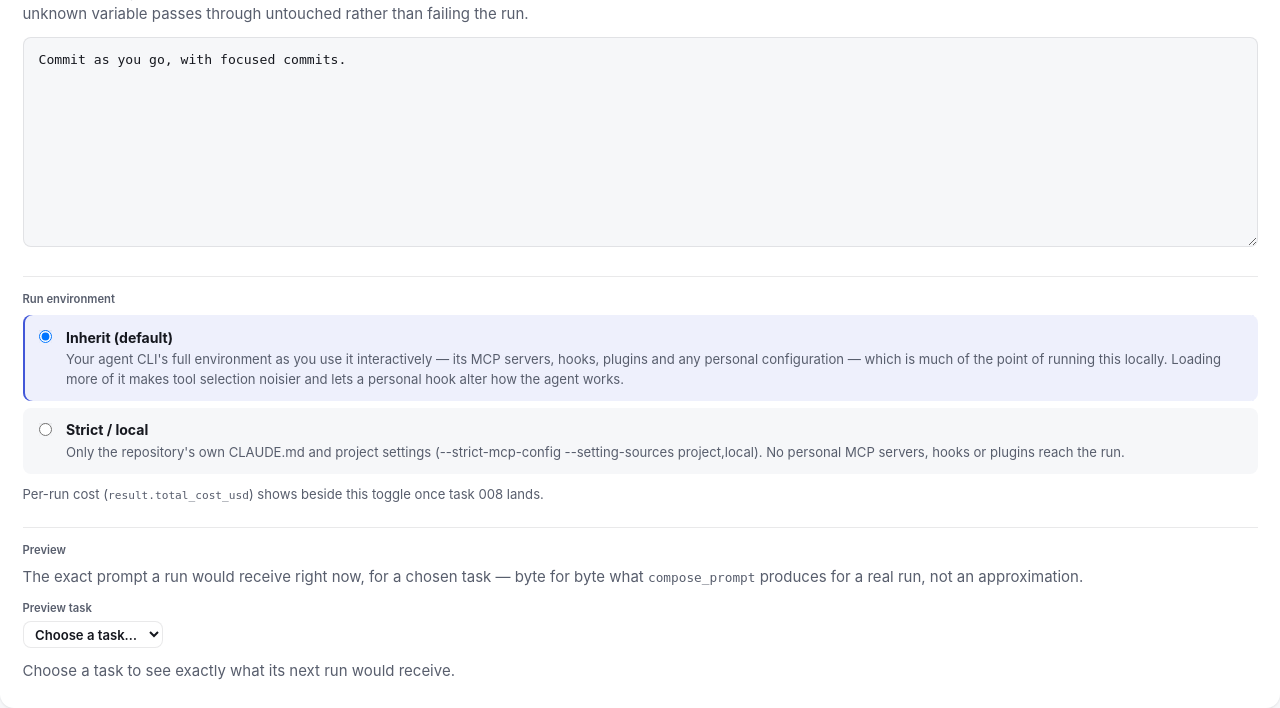
Test: InstructionsSection › re-composes the preview after a base-instructions save, for whatever task is already selected
(page scrolled)
Select "Wire the board" in the dropdown labelled "Preview task" at (92, 635), box [22,621,162,648]
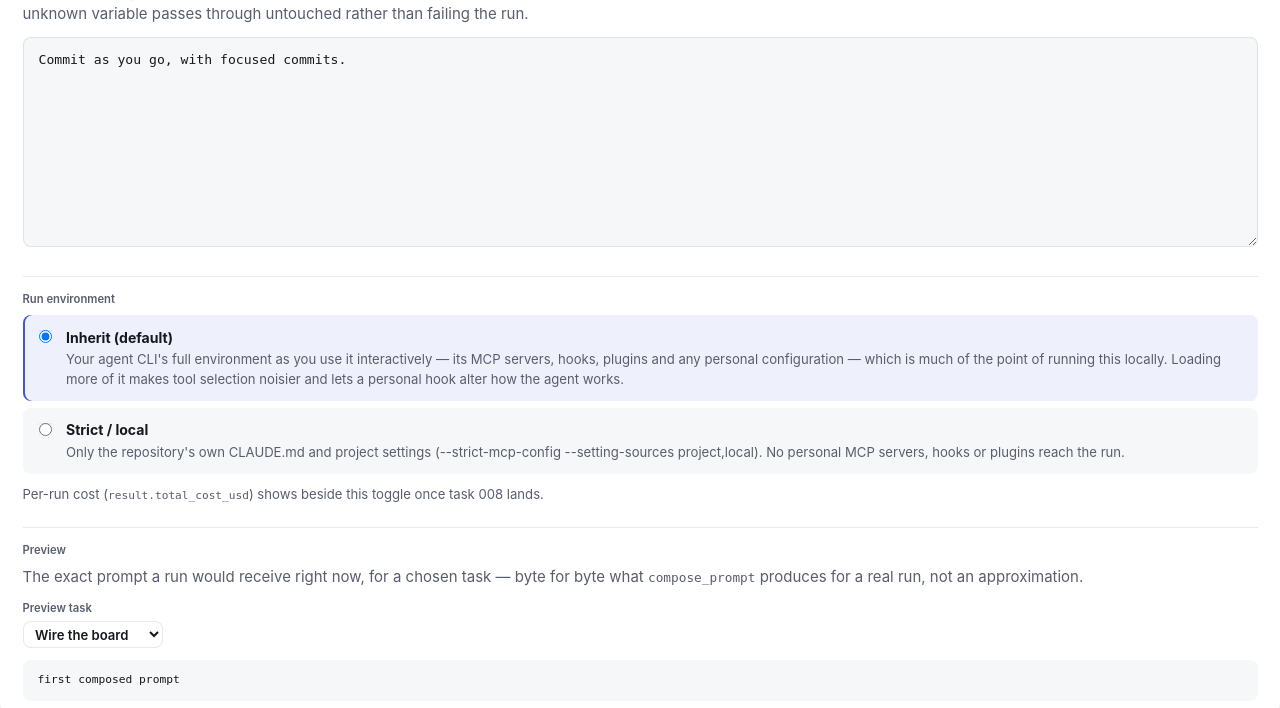
Result: the text "first composed prompt" is shown at [22,660,1258,701]
Replace the text in the text box named "Base instructions" with "revised base instructions" at (640, 142), box [22,37,1258,247]
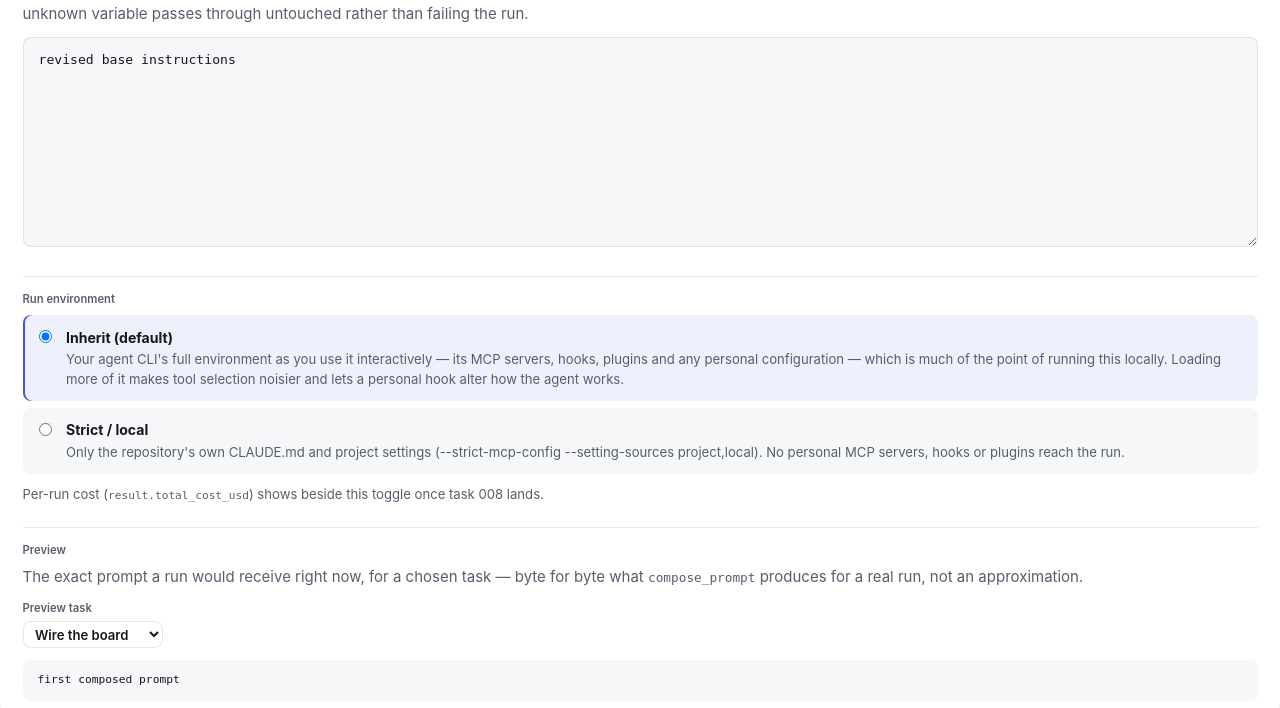
Leave the text box named "Base instructions", box [22,37,1258,247]
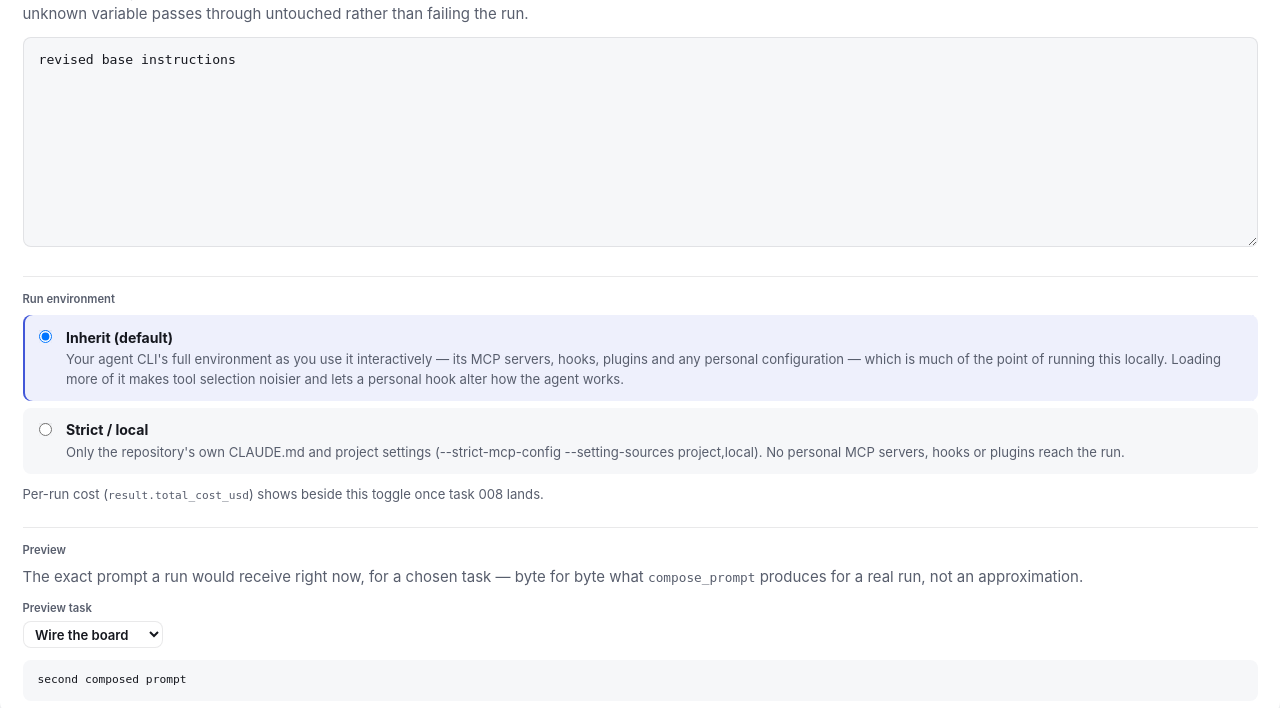
Result: the text "second composed prompt" is shown at [22,660,1258,701]
